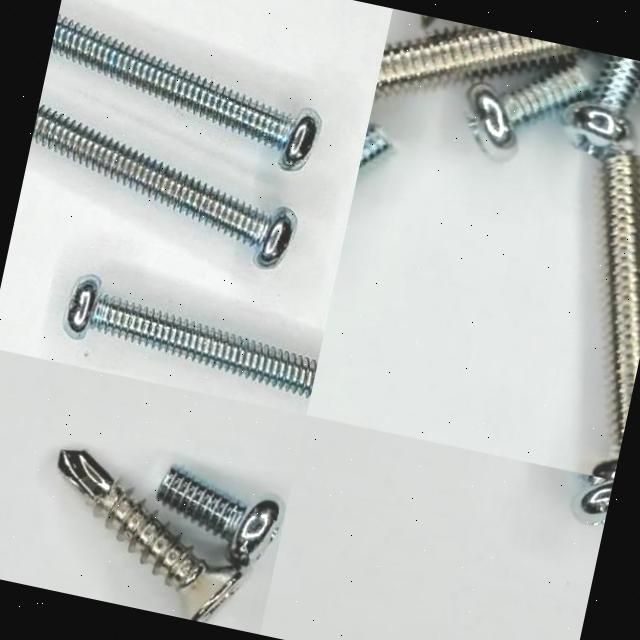Screw: (31, 103, 297, 268), (50, 14, 322, 170), (58, 450, 247, 622), (64, 277, 317, 398), (374, 26, 585, 96), (158, 466, 281, 568), (467, 65, 593, 159), (603, 148, 640, 448), (563, 54, 640, 157), (572, 475, 613, 525)
